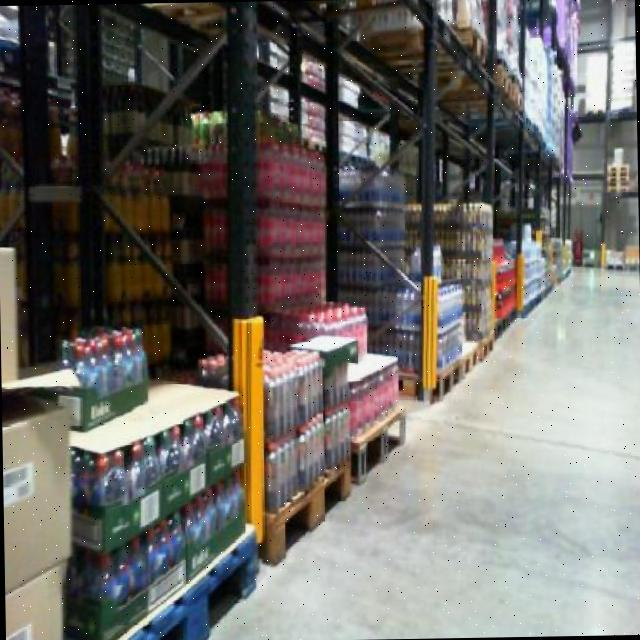pallet: (133, 506, 260, 640), (258, 442, 356, 569), (348, 396, 411, 488), (427, 347, 468, 404)
